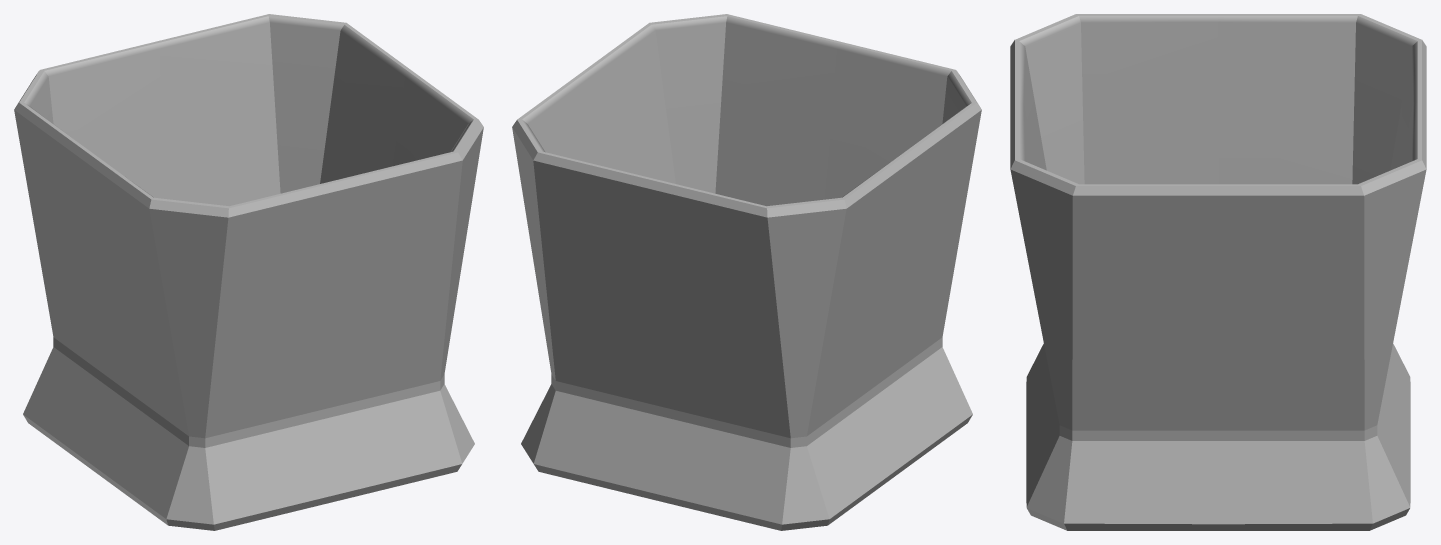
File: whiskey_glass.glb
3 renders of one model, left to right at view 1: azimuth 30°, elevation 25°; view 2: azimuth 150°, elevation 25°; view 3: azimuth 270°, elevation 25°, orthographic. The views are drawn at different scales.
Visible parts, largest first — view 1: Whiskey_glass; view 2: Whiskey_glass; view 3: Whiskey_glass.
Part boxes in pixels (x1,y1,x2,y2): Whiskey_glass: (14, 14, 483, 530); Whiskey_glass: (512, 14, 981, 530); Whiskey_glass: (1010, 14, 1426, 530).
Bounding box in the file's own units: 20.83 × 19.42 × 20.83.
1 material, 1 textured.
